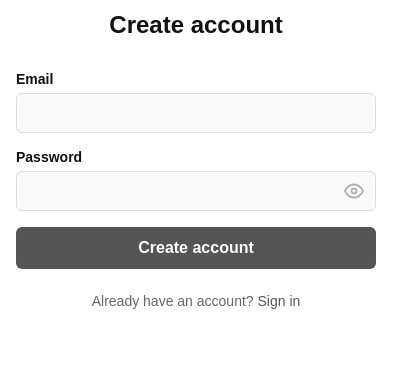
Test: shows the server's whitelist error message on 403
The image size is (393, 374).
Type "nobody@example.com" into the field labelled "Email".
click(196, 113); type("nobody@example.com")  # box top-left (16, 93), bottom-right (376, 133)
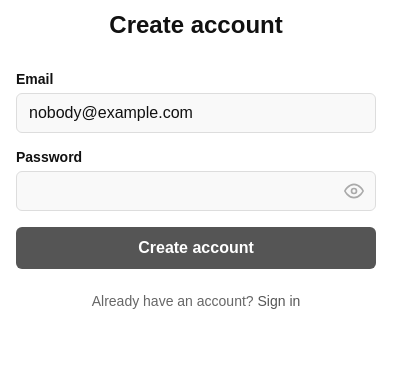
Type "password123" into the password field labelled "Password".
click(196, 191); type("password123")  # box top-left (16, 171), bottom-right (376, 211)
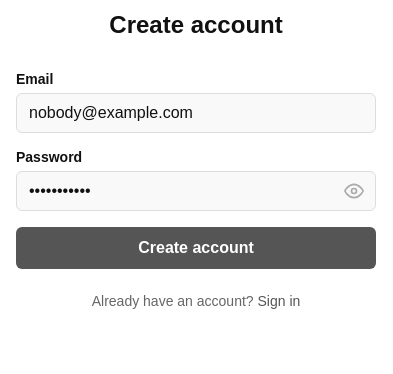
Click the button "Create account".
click(196, 248)  # box top-left (16, 227), bottom-right (376, 269)
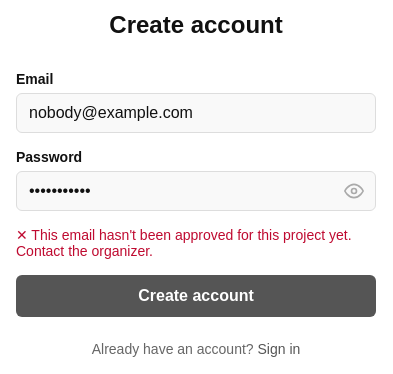
Expected: the text "hasn't been approved" is shown, top-left (16, 227), bottom-right (352, 259)
